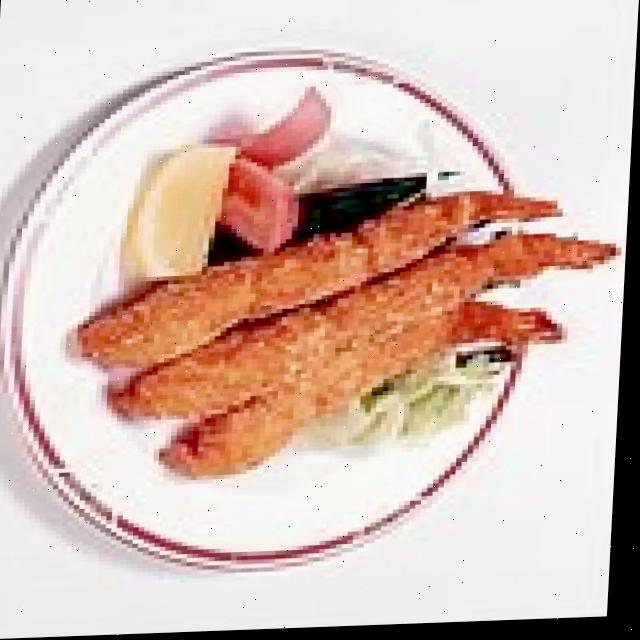炸货点心: (56, 170, 632, 502)
熟制海鲜: (56, 170, 632, 502)
